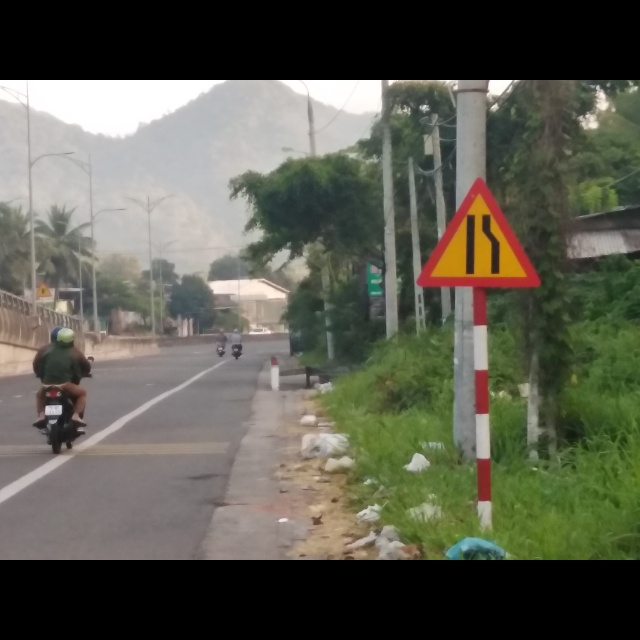Đường bị hẹp bên phải: (414, 173, 544, 288)
